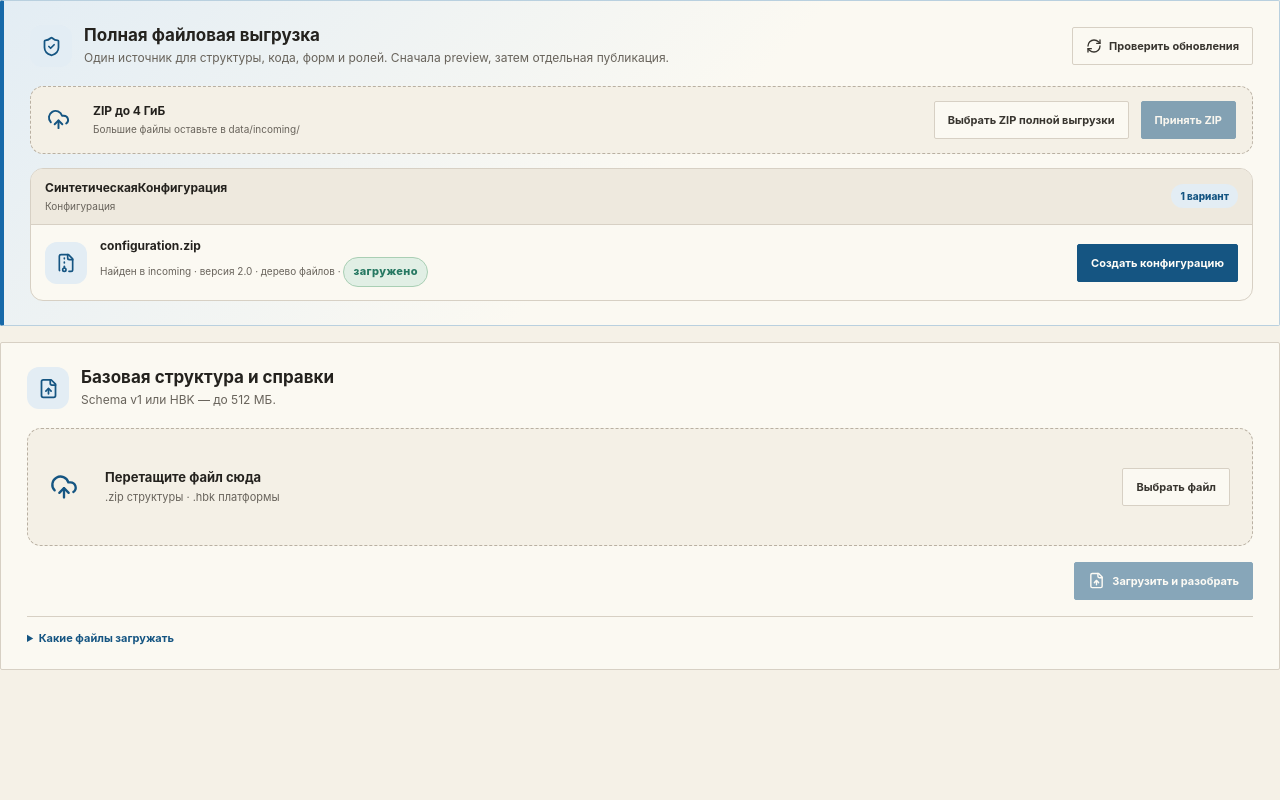
Test: ручная проверка обновляет статус incoming после внешней замены ZIP
Click the button "Проверить обновления". click: (1162,46)
box: [1072,27,1253,65]
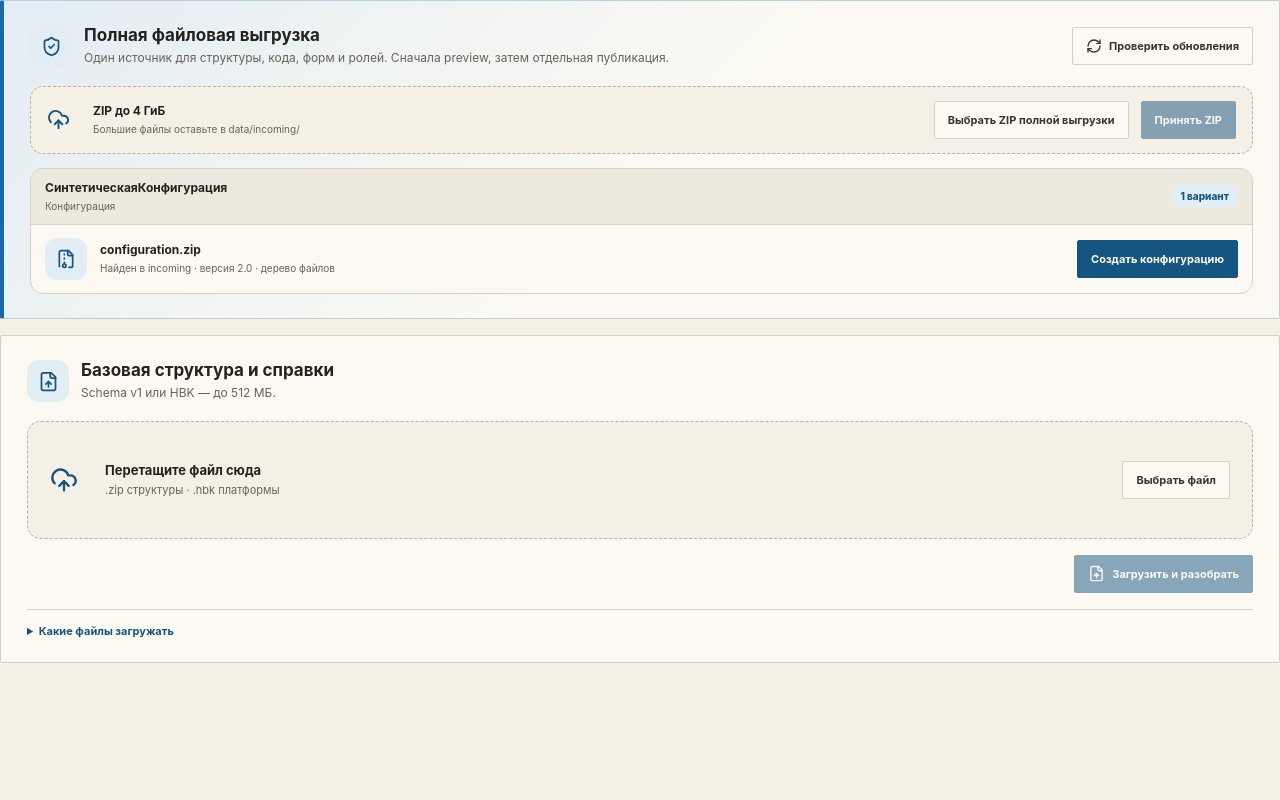
Now the text "загружено" is gone
